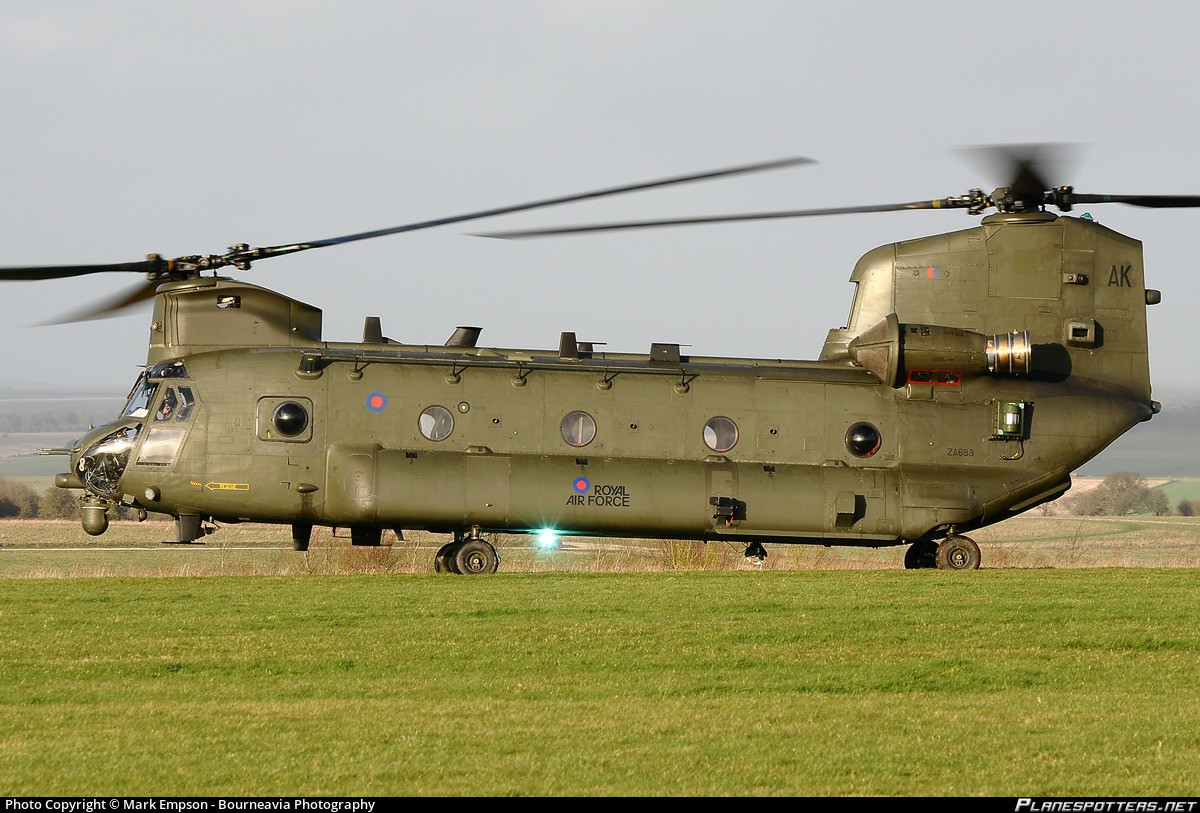chinook: (53, 138, 1157, 598)
